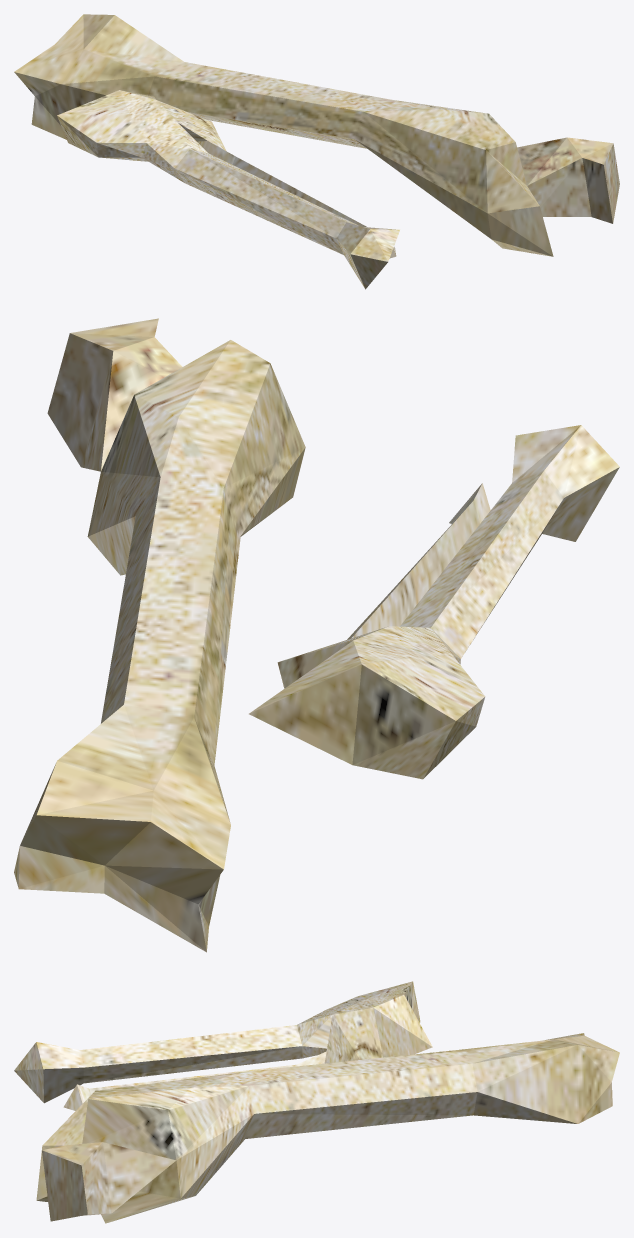
Rendered from poi_tato_skel_krayt_leg_s01_l0.fbx.
3 views of the same model, one above another, from view 1: azimuth 30°, elevation 25°; view 2: azimuth 150°, elevation 25°; view 3: azimuth 270°, elevation 25° (orthographic). The views are drawn at different scales.
Visible parts, largest first — view 1: mesh_node; view 2: mesh_node; view 3: mesh_node.
Part boxes in pixels (x1,y1,x2,y2): mesh_node: [14, 14, 619, 289]; mesh_node: [14, 318, 619, 952]; mesh_node: [14, 981, 619, 1223].
Bounding box in the file's own units: 3.89 × 1.08 × 5.25.
2 materials, 2 textured.
